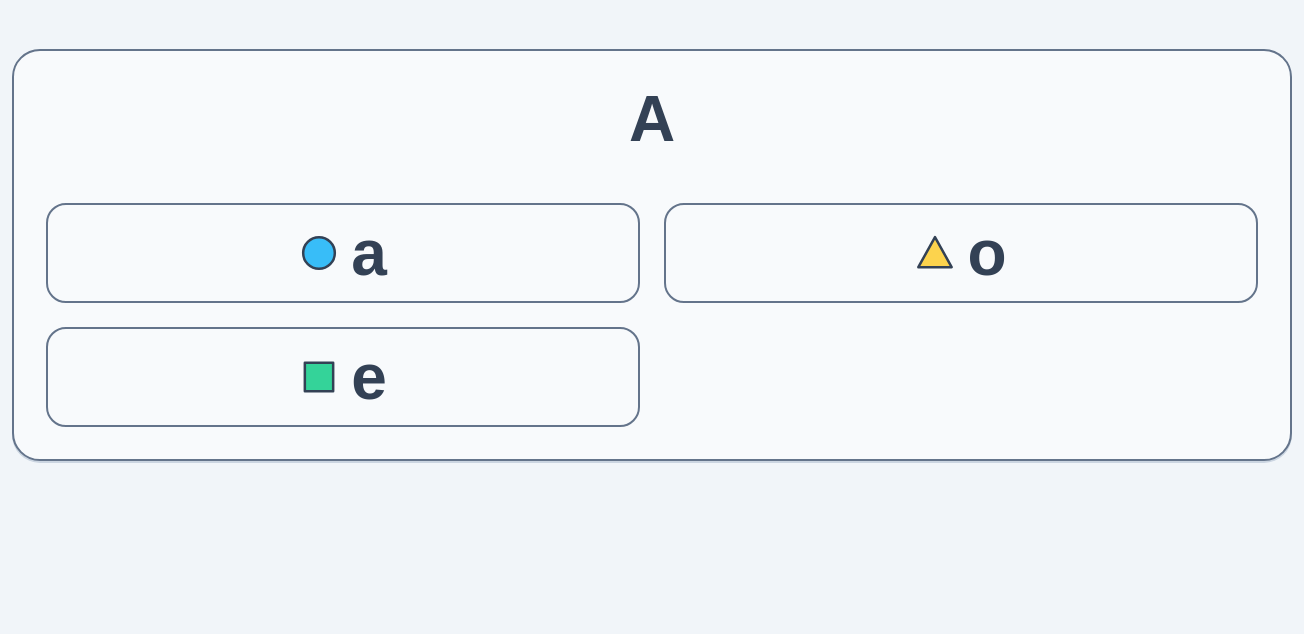
ActivityRunner — fluxo da criança › outra resposta: convite gentil para tentar de novo e telemetria registra a tentativa
Click the button "o" at point(935, 253), box [664,203,1258,303]
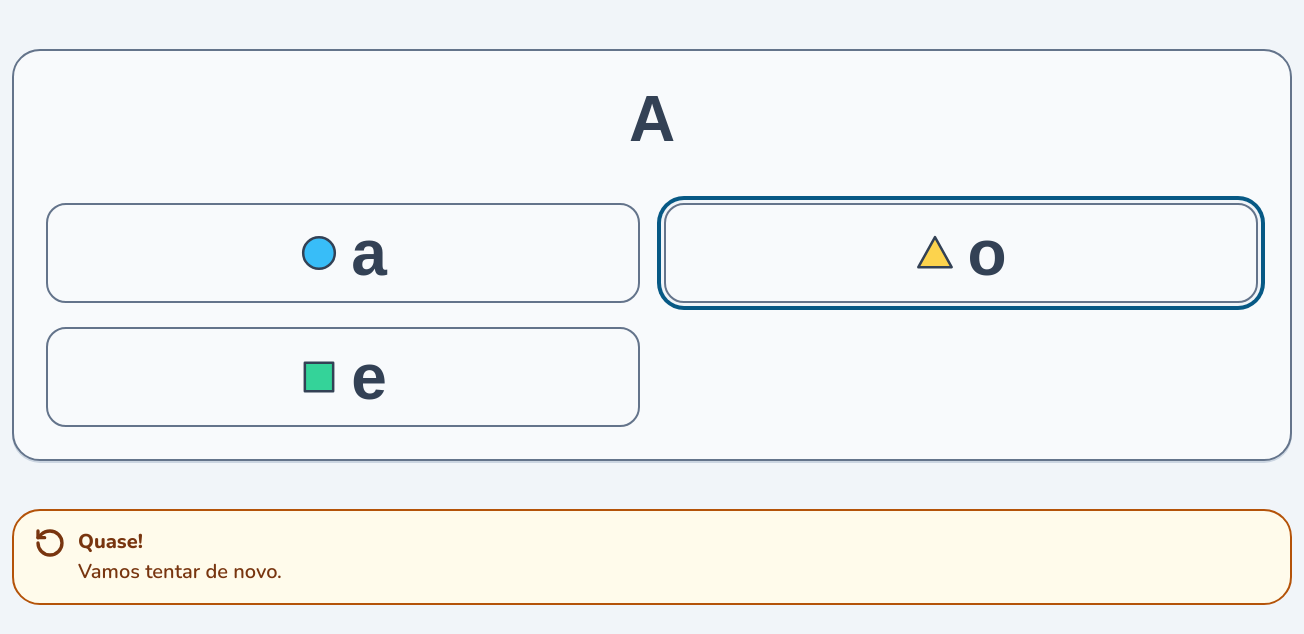
Check: the button "Continuar" is not shown
Check: the message shows "Quase!", box [78,528,143,555]
Check: the message shows "Vamos tentar de novo.", box [78,558,282,585]
# A criança pode tentar de novo e acertar.
Click the button named "a, " at point(319, 253), box [46,203,640,303]
(page scrolled)
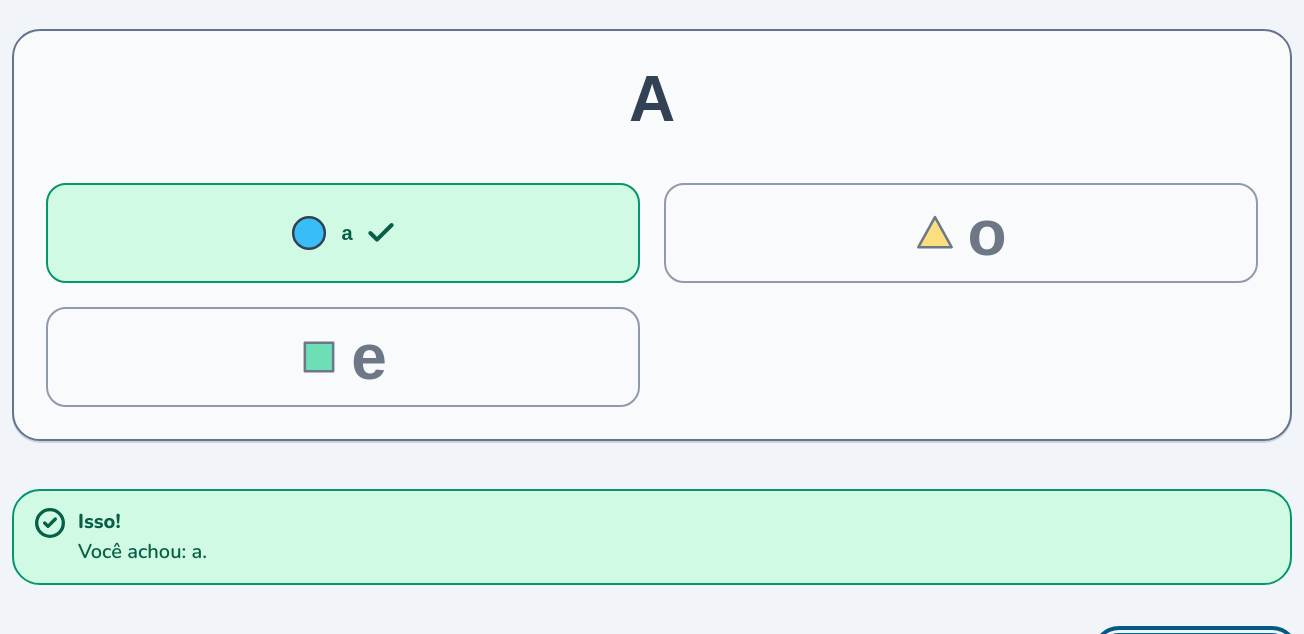
Check: the message shows "Isso!", box [78,508,121,535]
